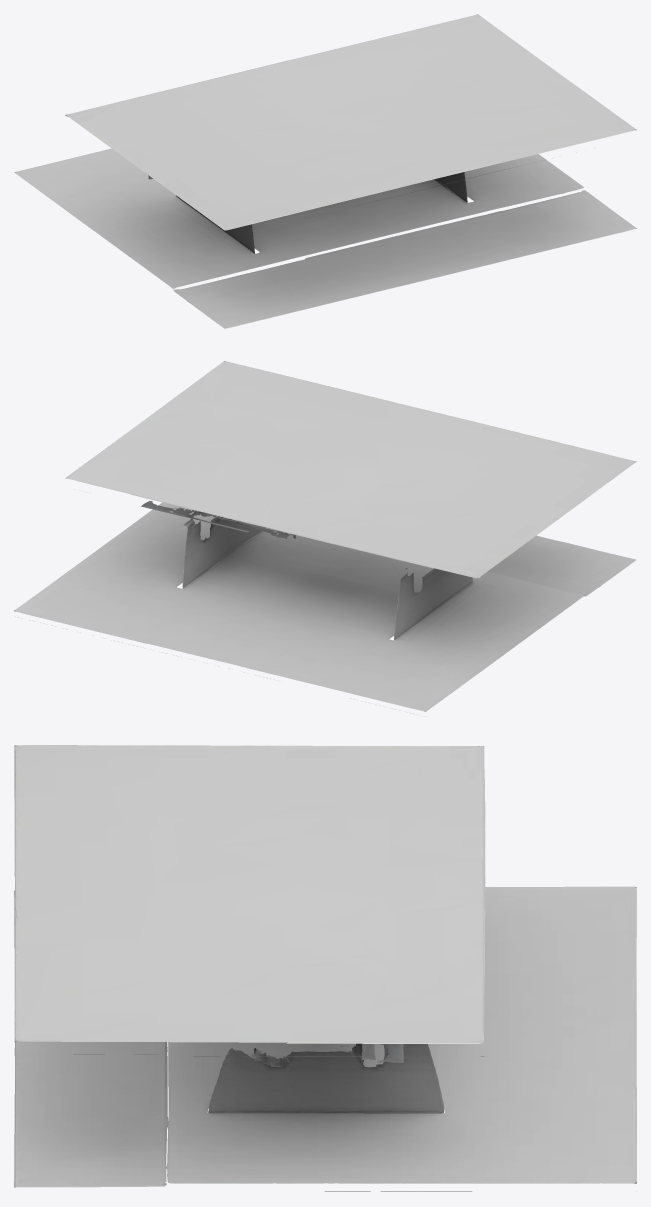
The picture shows the model from 3 angles, top to bottom: view 1: azimuth 30°, elevation 25°; view 2: azimuth 150°, elevation 25°; view 3: azimuth 270°, elevation 25°; orthographic projection. The views are drawn at different scales.
Visible parts, largest first — view 1: geometry_0; view 2: geometry_0; view 3: geometry_0.
Boxes of the visible parts, left/top/right/bottom form: geometry_0: left=14, top=14, right=636, bottom=328; geometry_0: left=14, top=361, right=636, bottom=713; geometry_0: left=14, top=745, right=636, bottom=1191.
Bounding box in the file's own units: 1 × 0.2379 × 0.8856.
1 material, 1 textured.
